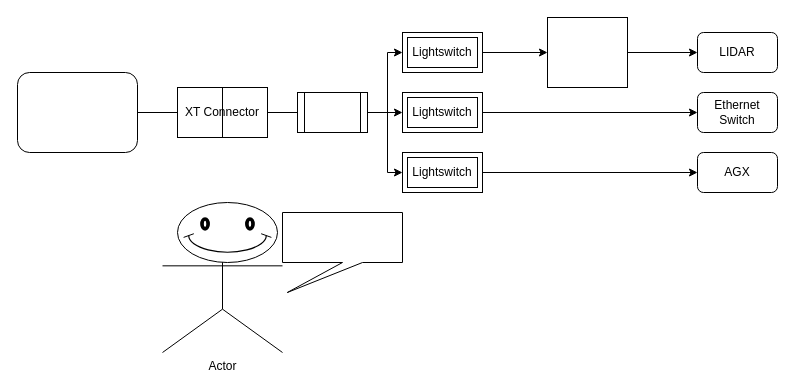
Image size: 795x391. Some labels were removed from this diagram. The box of each missing label's shape, as (x1, y1, x2, y2) in pixels:
10A Fuse: (296, 92, 368, 132)
Control Box: (546, 16, 628, 88)
Devilish: (282, 212, 402, 292)
LiPo: (16, 72, 138, 152)
